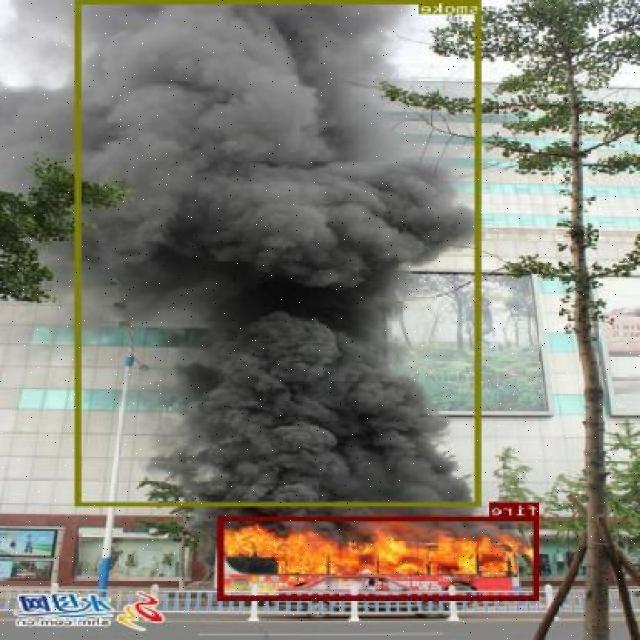smoke: (76, 0, 482, 505)
